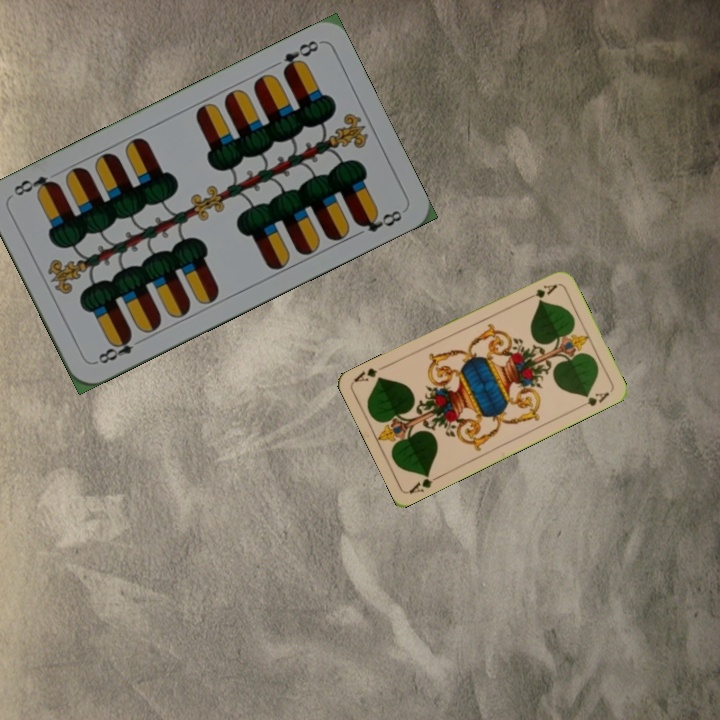E8: (90, 330, 146, 367), (279, 36, 322, 77)
GA: (406, 469, 444, 496), (521, 280, 560, 303)
